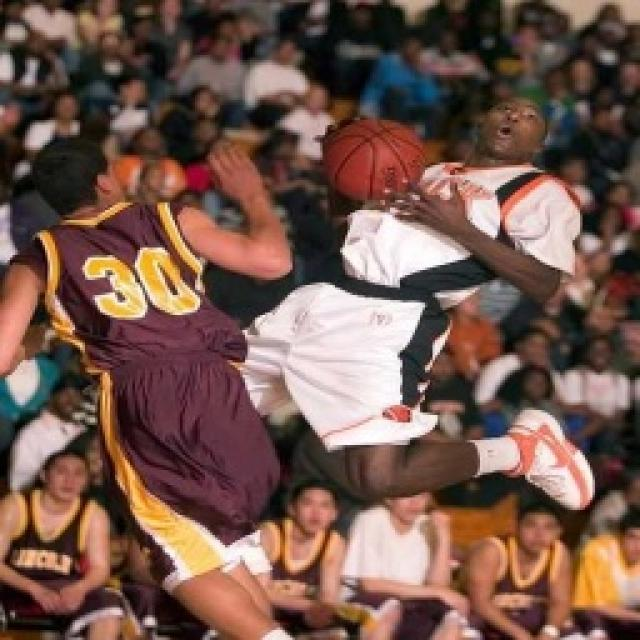rim: (314, 114, 436, 212)
